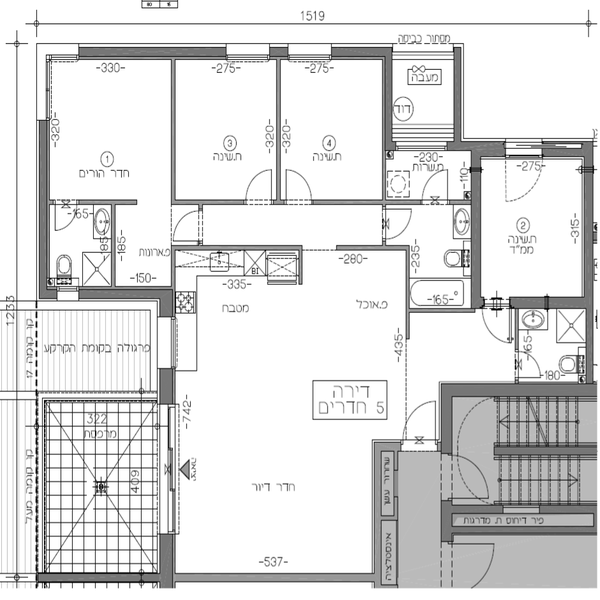door: (444, 453, 492, 504), (397, 394, 441, 447), (504, 157, 550, 205), (464, 539, 509, 584), (482, 298, 517, 348), (281, 165, 317, 209), (238, 166, 277, 205), (47, 195, 81, 233), (509, 344, 547, 378), (167, 214, 207, 244), (423, 174, 463, 203), (385, 206, 413, 236)
room: (166, 237, 399, 564), (436, 374, 600, 540), (33, 44, 179, 210), (459, 137, 591, 313), (272, 29, 394, 214), (174, 34, 287, 210), (375, 145, 482, 311), (33, 200, 177, 302), (382, 29, 471, 154)
wall: (577, 141, 598, 382), (428, 374, 596, 402), (78, 37, 226, 64), (37, 119, 56, 304), (467, 155, 486, 306), (167, 54, 183, 207), (268, 59, 284, 206), (455, 123, 506, 169), (459, 524, 600, 540), (502, 440, 598, 463), (452, 44, 472, 153), (80, 281, 174, 304), (148, 525, 181, 588), (508, 287, 580, 312), (311, 192, 422, 208), (434, 373, 457, 450), (381, 46, 397, 153), (403, 249, 418, 339), (329, 38, 396, 58), (108, 204, 123, 291), (530, 495, 598, 513), (152, 364, 179, 407), (543, 132, 588, 157), (406, 306, 481, 320), (77, 194, 135, 210), (443, 504, 504, 519), (167, 196, 243, 208), (332, 243, 412, 254), (438, 499, 456, 543)
window: (155, 404, 177, 528), (37, 41, 61, 120), (150, 314, 182, 367), (152, 315, 178, 374), (230, 38, 271, 66), (288, 41, 337, 59), (57, 282, 82, 304)
